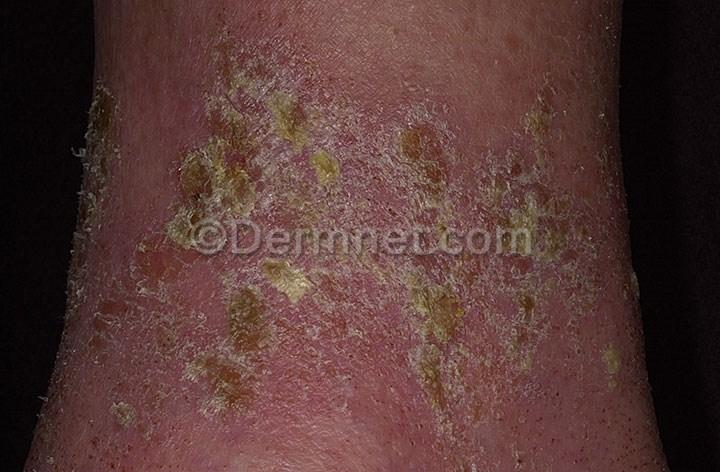Eczema: (169, 27, 332, 185), (164, 266, 320, 405), (324, 269, 460, 390), (286, 178, 437, 268), (341, 104, 490, 178), (462, 272, 559, 379), (50, 296, 170, 382), (65, 197, 168, 293), (162, 186, 286, 265), (437, 178, 541, 272), (66, 381, 163, 472), (437, 375, 536, 464), (488, 80, 575, 179), (541, 184, 619, 286), (572, 287, 641, 399), (470, 0, 555, 63), (81, 79, 141, 158), (80, 156, 149, 204)
